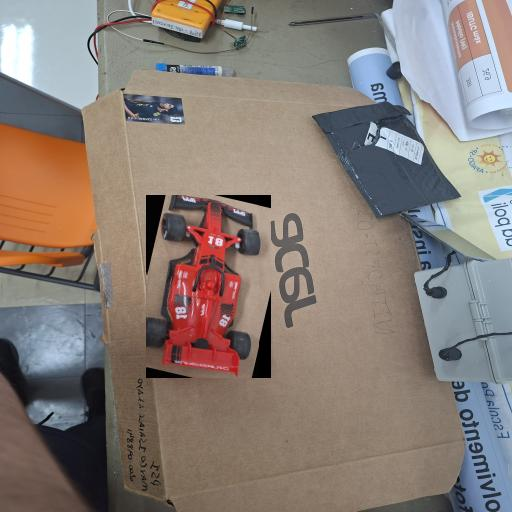carro: (147, 195, 258, 378)
